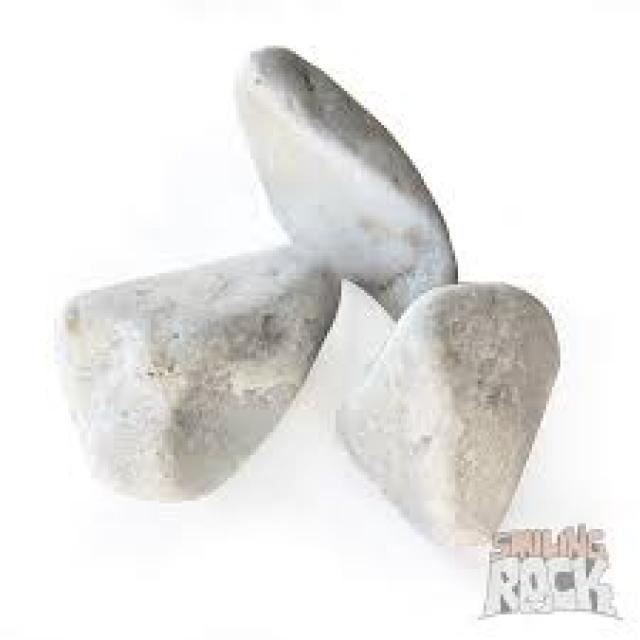Metamorphic: (63, 40, 566, 526)
